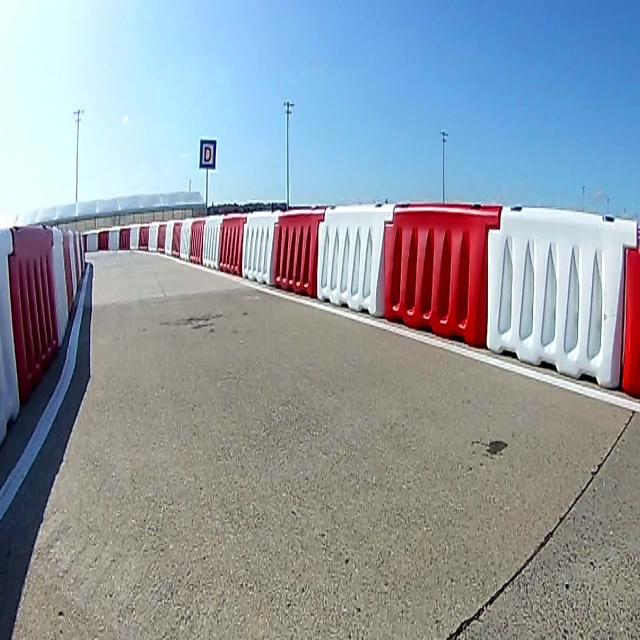durak: (200, 139, 216, 169)
